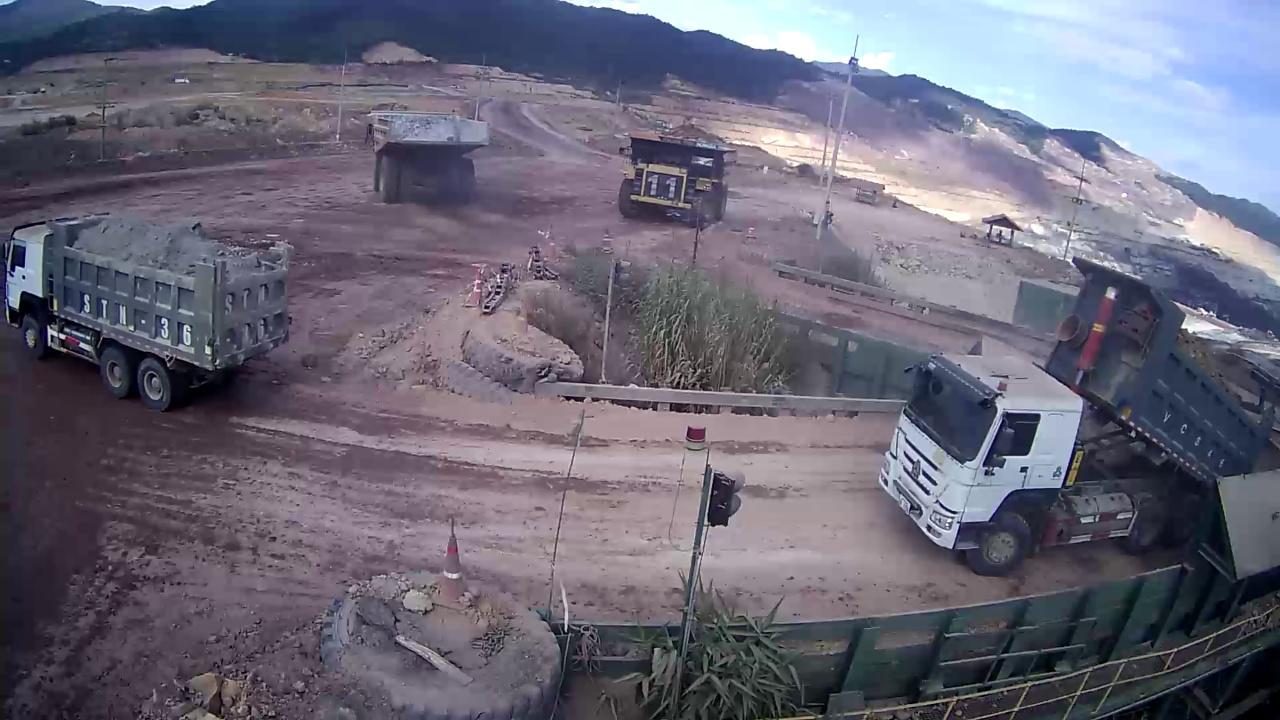empty_load: (391, 112, 472, 140)
front_number: (644, 169, 682, 202)
full_load: (656, 114, 737, 149)
mining_truck: (617, 112, 739, 234), (362, 107, 497, 204)
